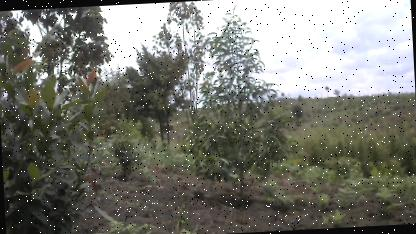tree: (182, 3, 302, 204)
